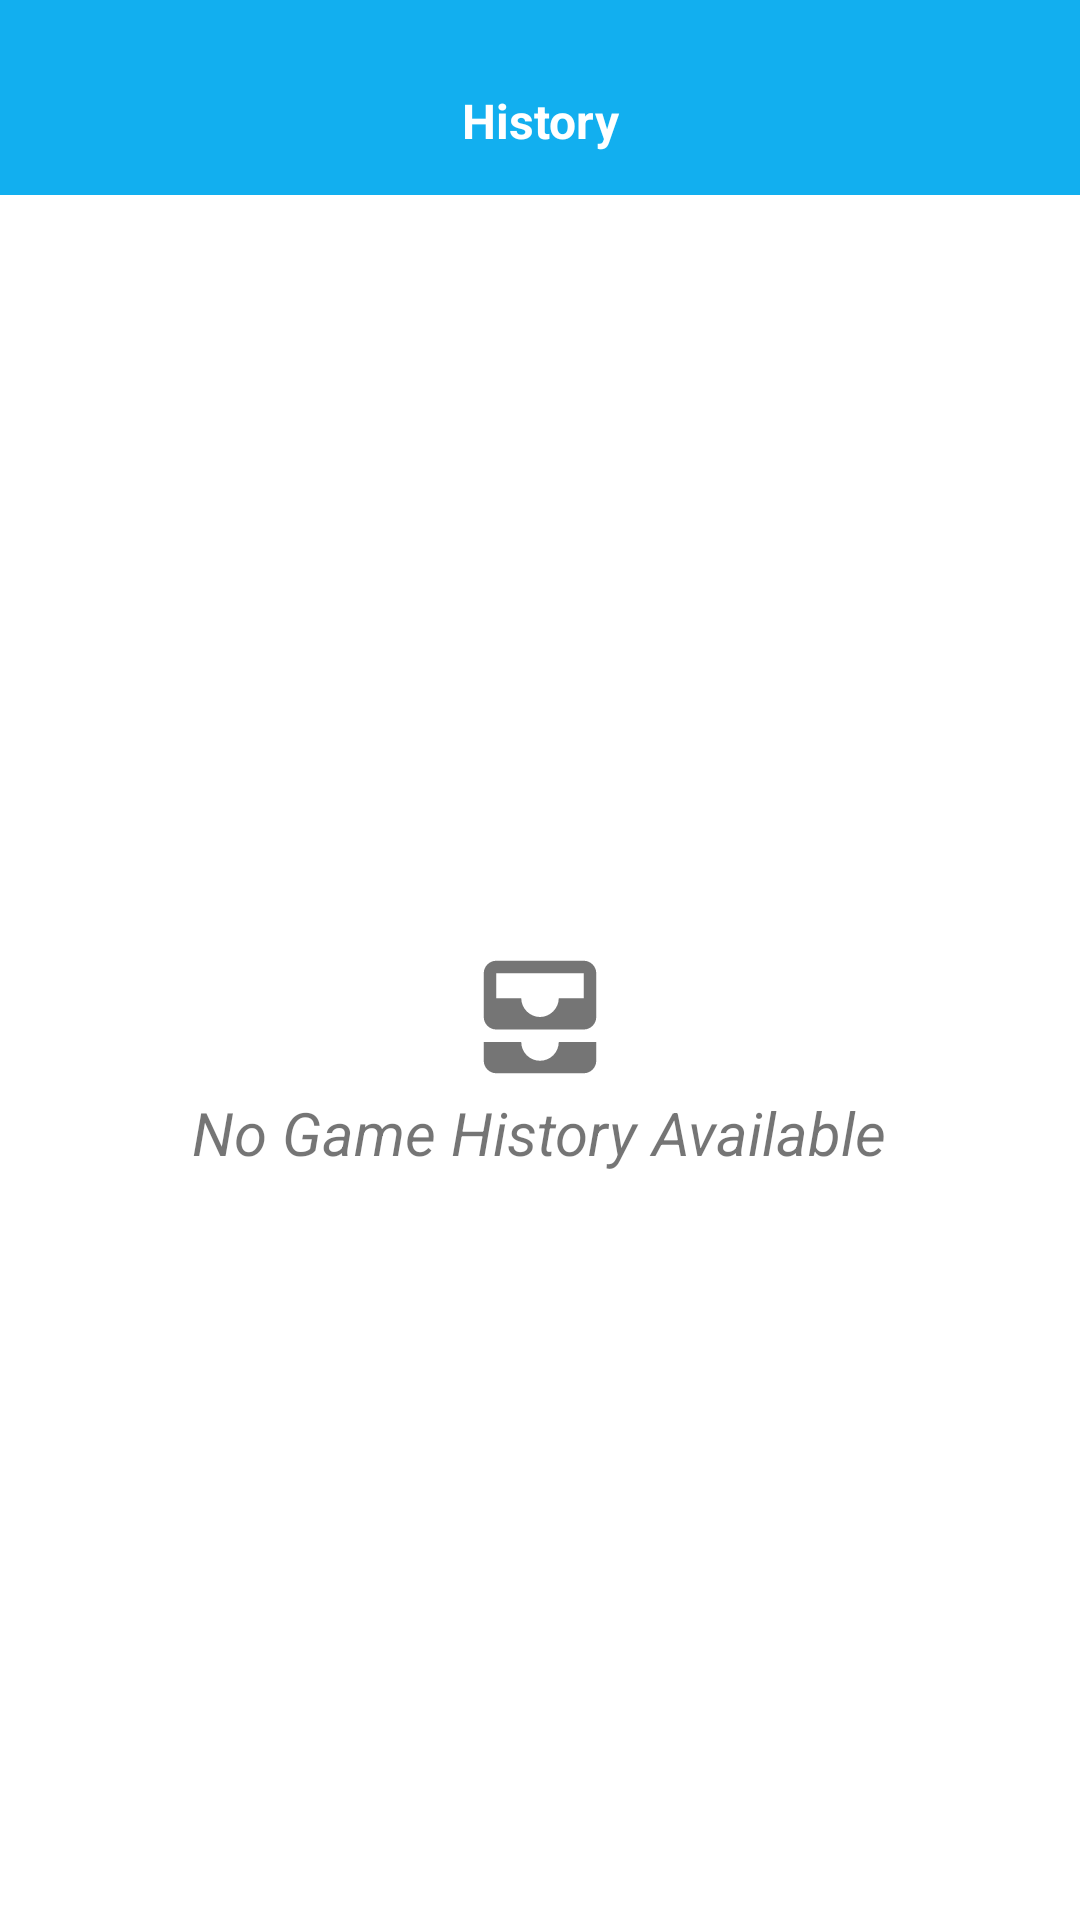

Named icons in this screenshot (1080 × 1920) and their bounding boxes, (x1, y1, x2, y2):
all inbox: (483, 960, 597, 1074)
